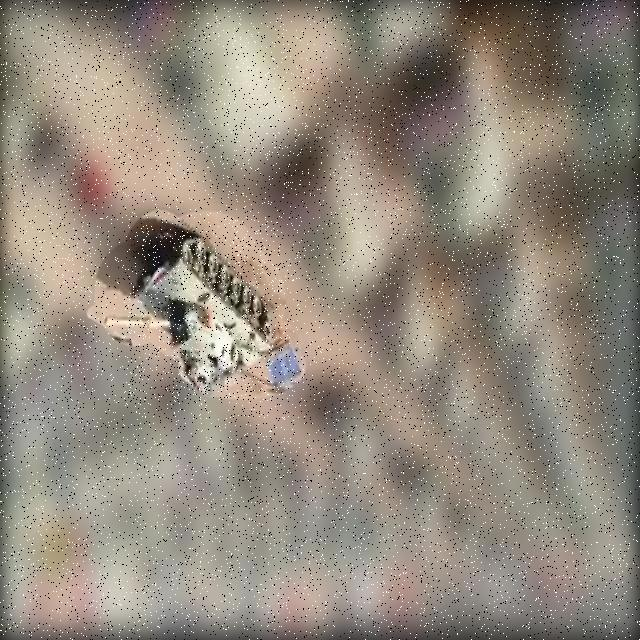MIL_MBT: (128, 229, 282, 400)
